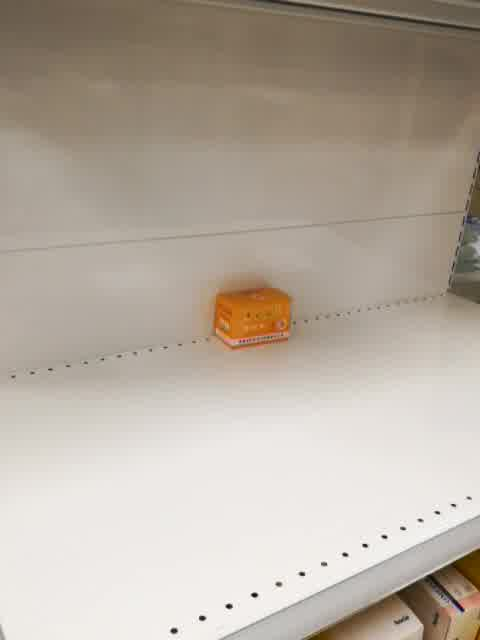jasminetea: (214, 286, 293, 349)
